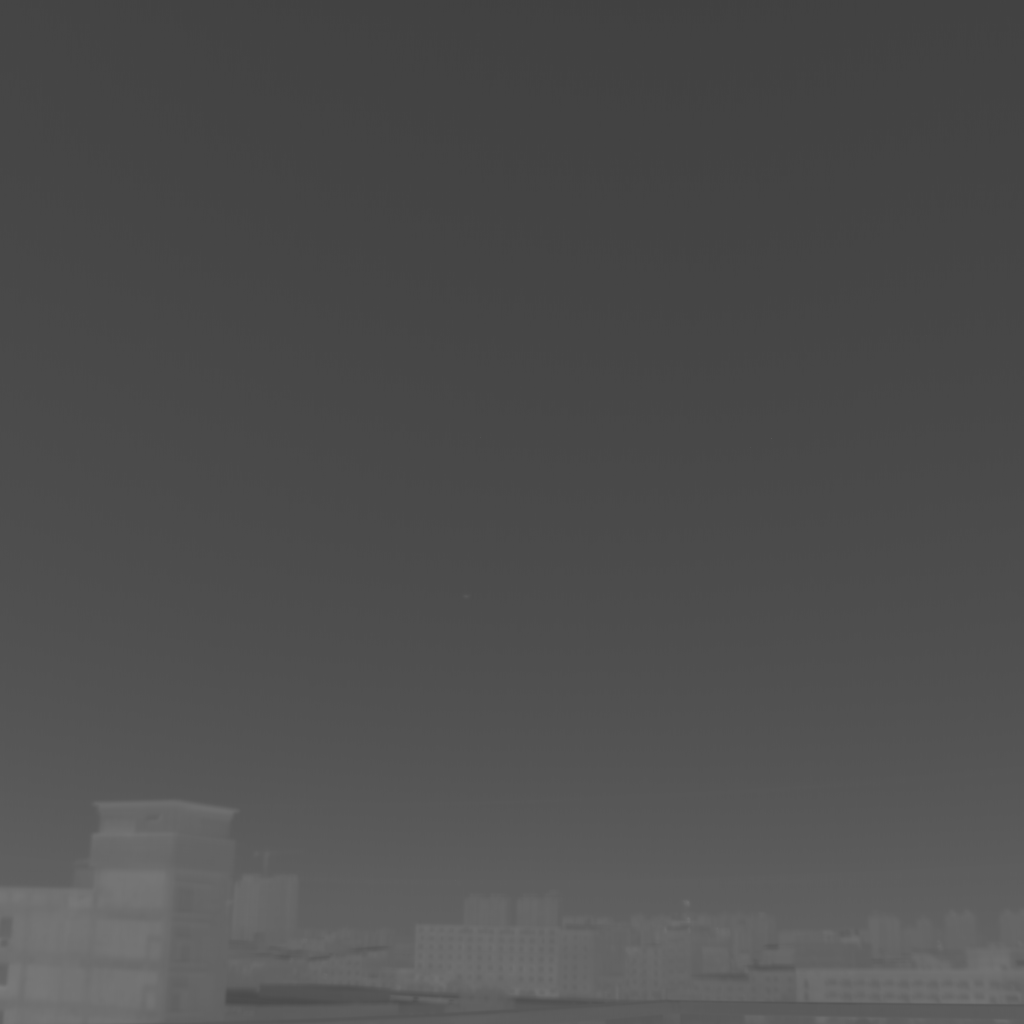Target: (464, 595, 469, 597)
